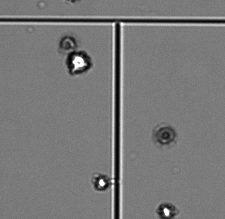Dead Cell: (153, 123, 178, 146), (56, 35, 80, 53)
Living Cell: (67, 50, 93, 75), (91, 170, 111, 193), (154, 201, 178, 217)
